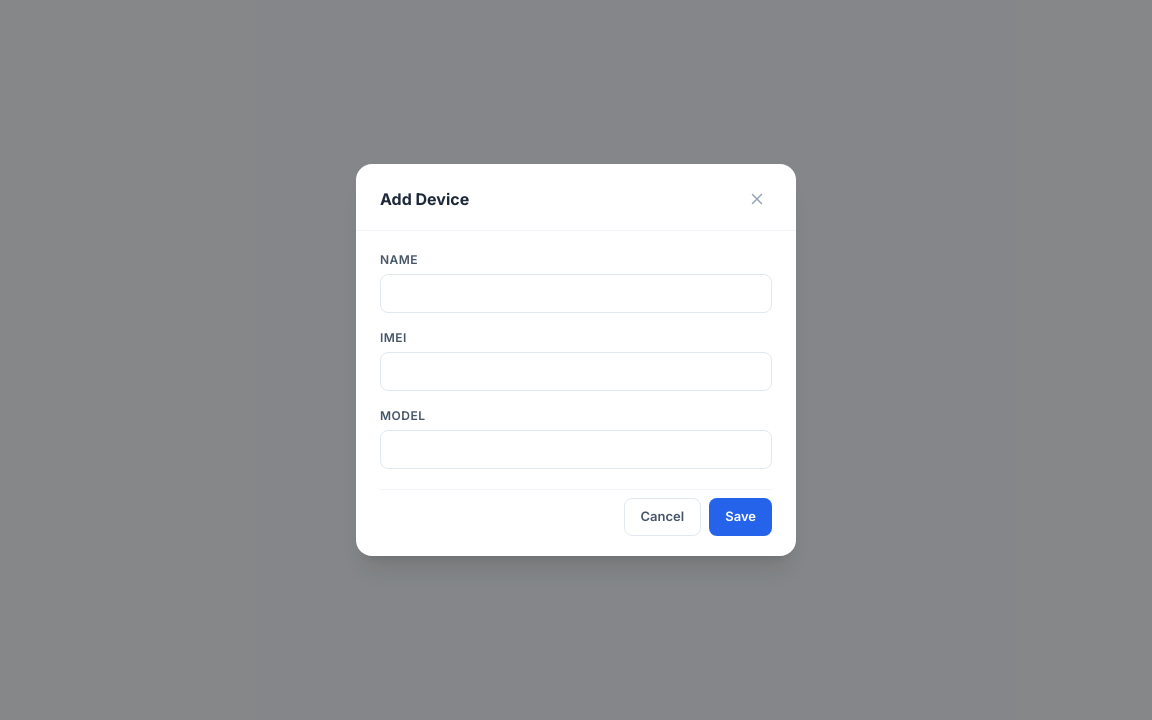
Test: DeviceFormModal — create mode › shows validation error when IMEI contains non-digits
Type "Test" into the field labelled "Name" at (576, 294), box left=380, top=274, right=772, bottom=313
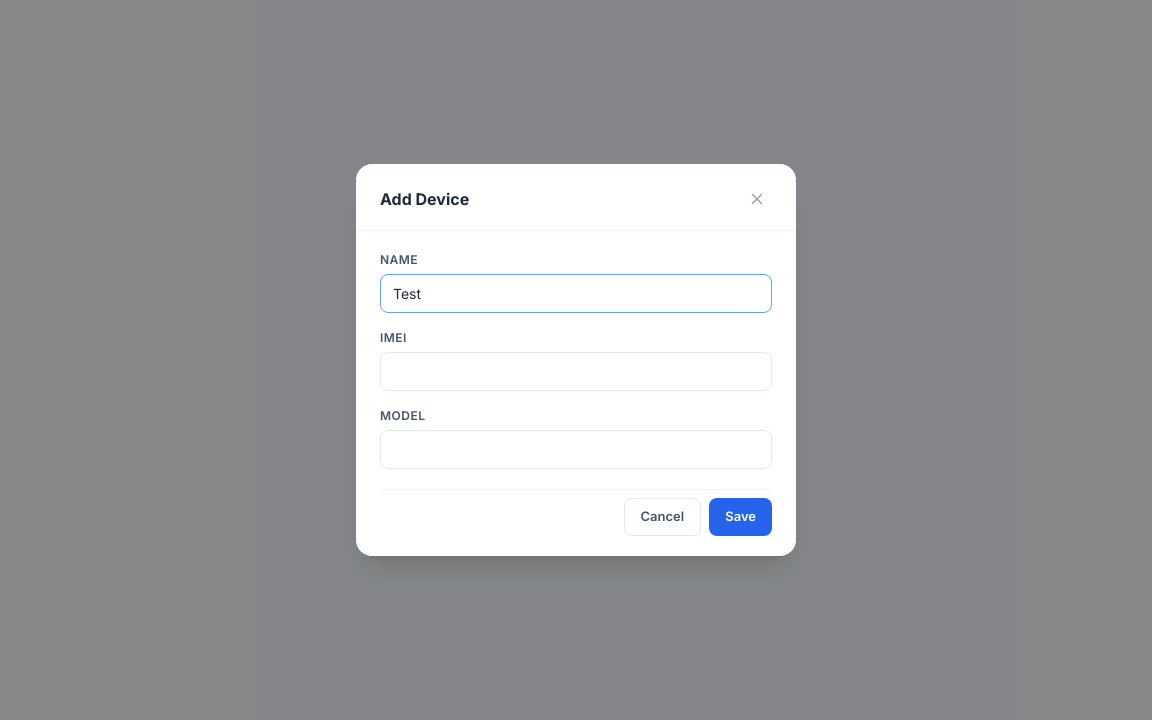
Type "ABCDE12345678901" into the field labelled "IMEI" at (576, 372), box left=380, top=352, right=772, bottom=391
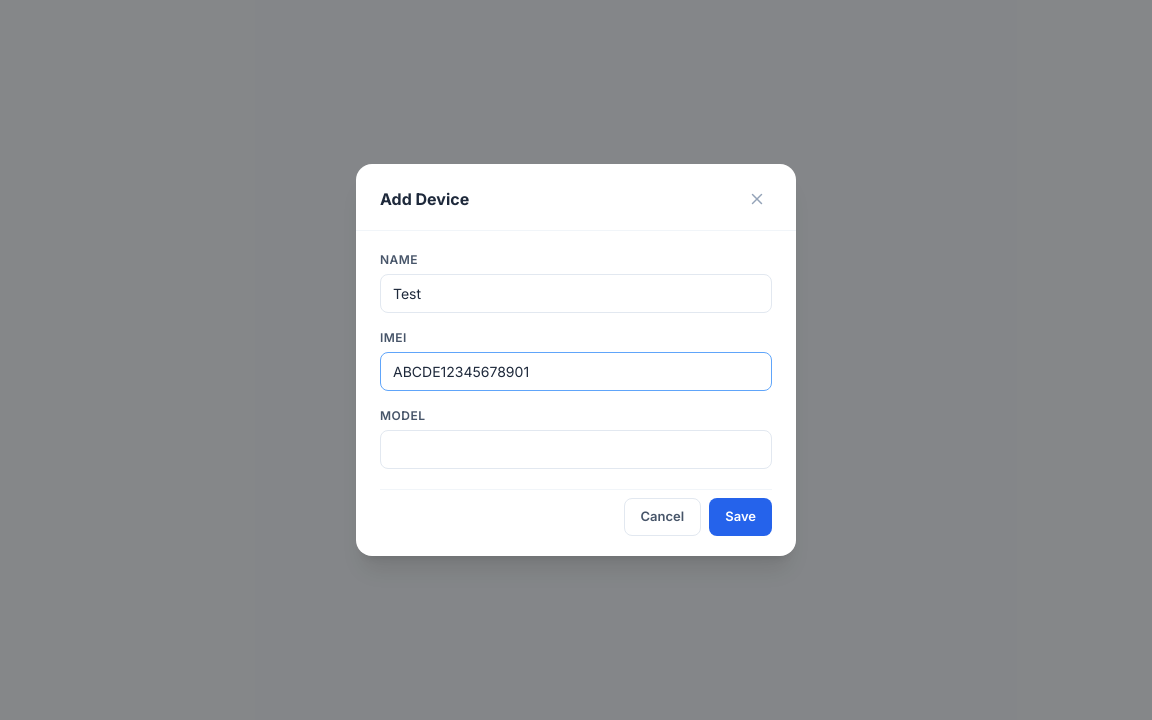
Click the button "Save" at (741, 517), box left=709, top=498, right=772, bottom=536
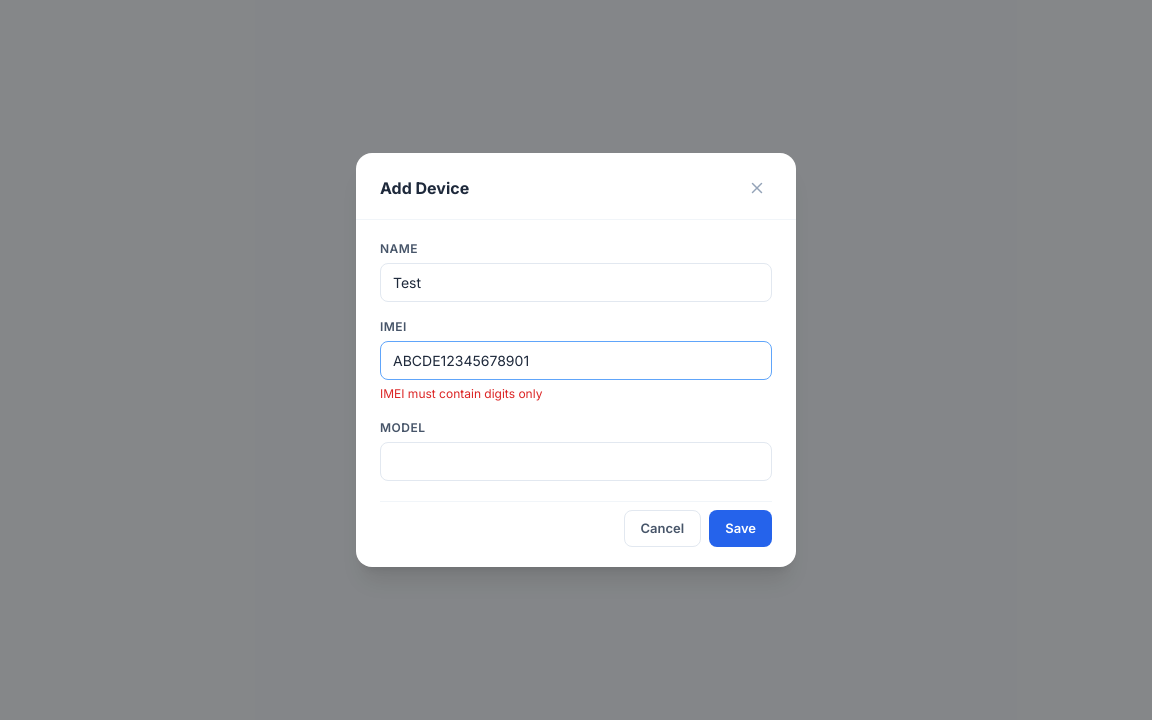
Expected: the text "IMEI must contain digits only" is shown, left=380, top=386, right=542, bottom=401
